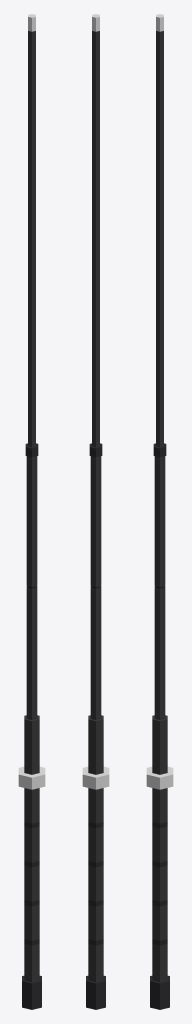
Rendered from SM_BuildingsDecor_19.fbx.
3 views of the same model, side by side, from view 1: azimuth 90°, elevation 25°; view 2: azimuth 210°, elevation 25°; view 3: azimuth 270°, elevation 25° (orthographic).
Visible parts, largest first — view 1: SM_BuildingsDecor_19; view 2: SM_BuildingsDecor_19; view 3: SM_BuildingsDecor_19.
Part boxes in pixels (x1,y1,x2,y2): SM_BuildingsDecor_19: (18,14,45,1009); SM_BuildingsDecor_19: (82,14,109,1009); SM_BuildingsDecor_19: (146,14,173,1009).
Bounding box in the file's own units: 0.128 × 4.52 × 0.1109.
